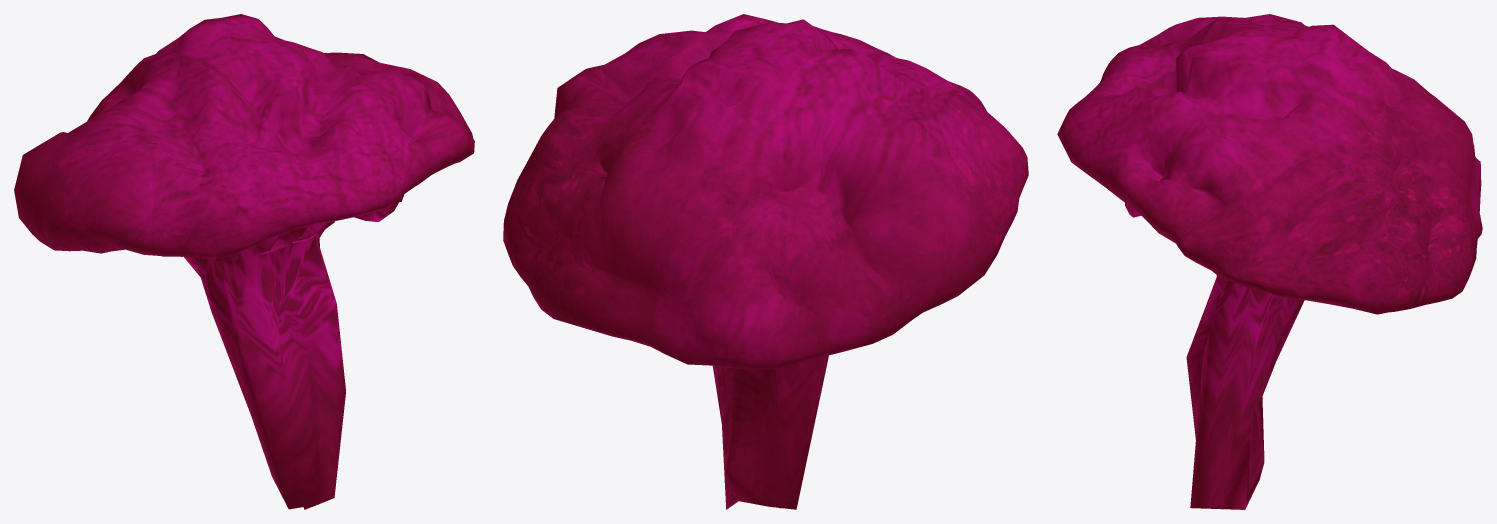
The model's file is magical_mushroom_magenta.glb.
3 views of the same model, side by side, from view 1: azimuth 30°, elevation 25°; view 2: azimuth 150°, elevation 25°; view 3: azimuth 270°, elevation 25° (orthographic). The views are drawn at different scales.
Parts seen in each view (by area): view 1: sphere; view 2: sphere; view 3: sphere.
Boxes of the visible parts, x1,y1,x2,y2 form: sphere: [14, 14, 474, 509]; sphere: [503, 14, 1028, 509]; sphere: [1057, 14, 1482, 509].
Bounding box in the file's own units: 211 × 220 × 185.
Materials: 1 (1 with a texture image).
